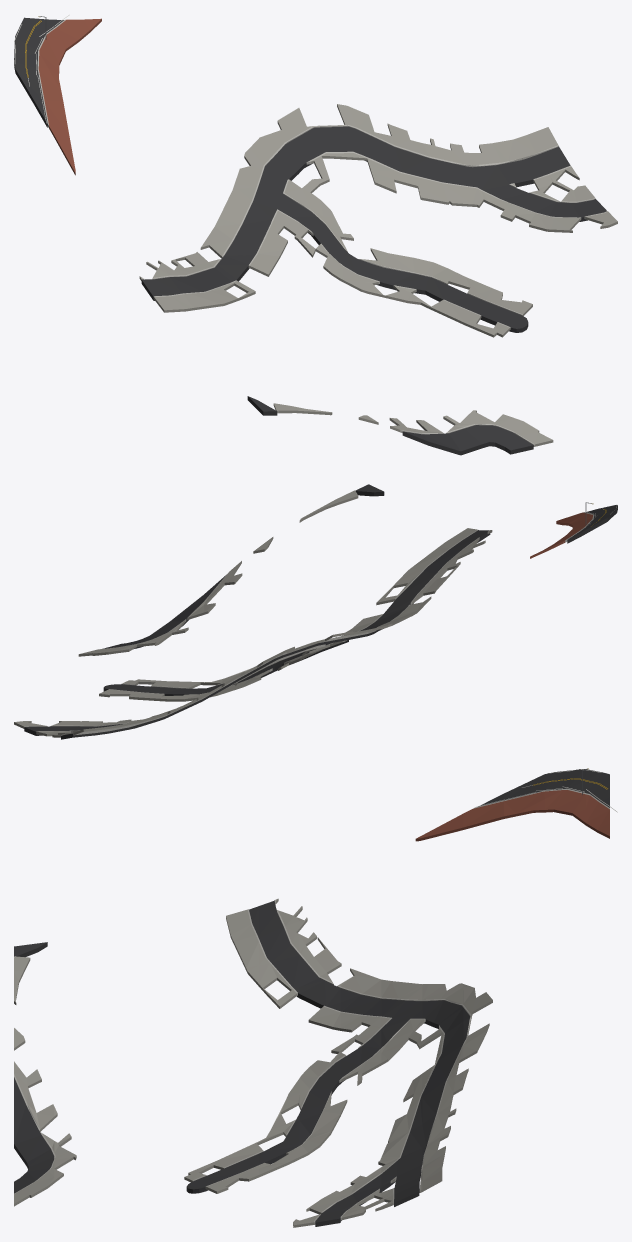
3 renders of one model, top to bottom at view 1: azimuth 30°, elevation 25°; view 2: azimuth 210°, elevation 25°; view 3: azimuth 270°, elevation 25°, orthographic. The views are drawn at different scales.
Bounding box in the file's own units: 147 × 84.3 × 148.
